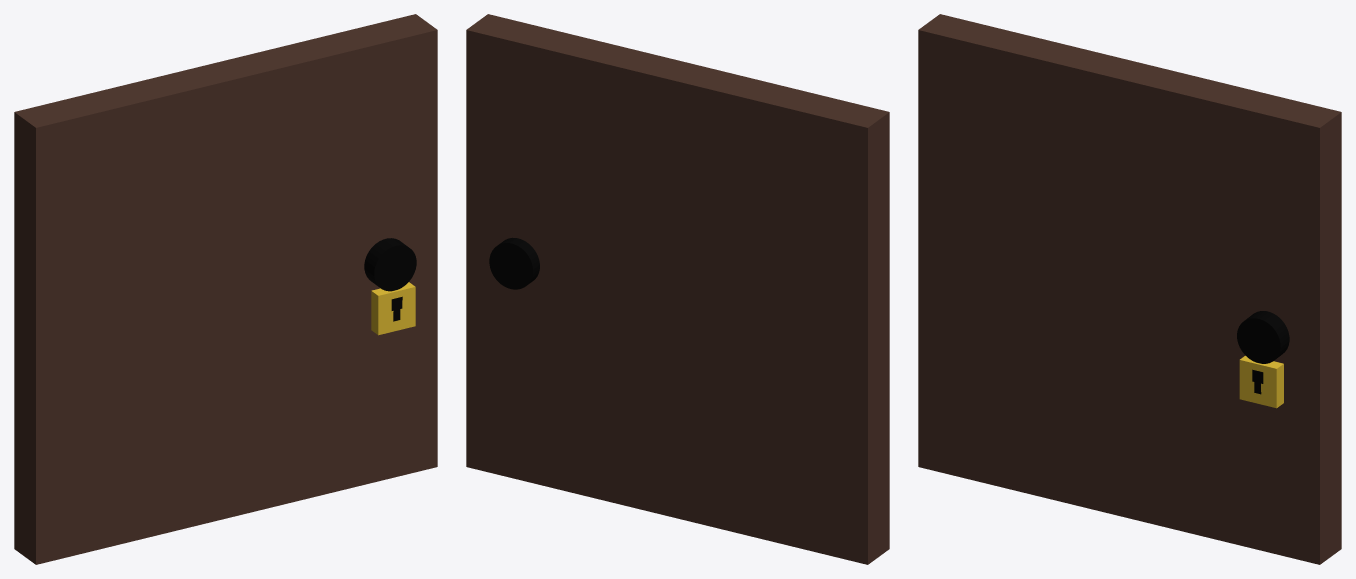
Rendered from doorLocked.fbx.
The picture shows the model from 3 angles, left to right: view 1: azimuth 30°, elevation 25°; view 2: azimuth 150°, elevation 25°; view 3: azimuth 330°, elevation 25°; orthographic projection.
Parts seen in each view (by area): view 1: Cube, Cylinder, Cube.001; view 2: Cube, Cylinder; view 3: Cube, Cylinder, Cube.001.
Part boxes in pixels (x1=…): Cube: x1=14, y1=14, x2=437, y2=564; Cylinder: x1=364, y1=238, x2=416, y2=291; Cube.001: x1=371, y1=282, x2=415, y2=335; Cube: x1=466, y1=14, x2=889, y2=564; Cylinder: x1=489, y1=237, x2=539, y2=289; Cube: x1=918, y1=14, x2=1341, y2=564; Cylinder: x1=1237, y1=311, x2=1289, y2=363; Cube.001: x1=1239, y1=355, x2=1283, y2=408.
Size of the model in its own units: 233 by 242 by 40.53.
